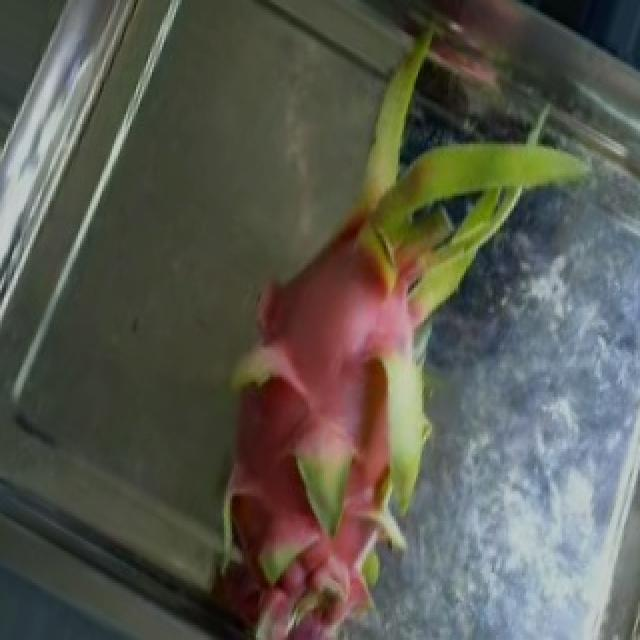fruit: (200, 0, 622, 414), (100, 230, 396, 640)
